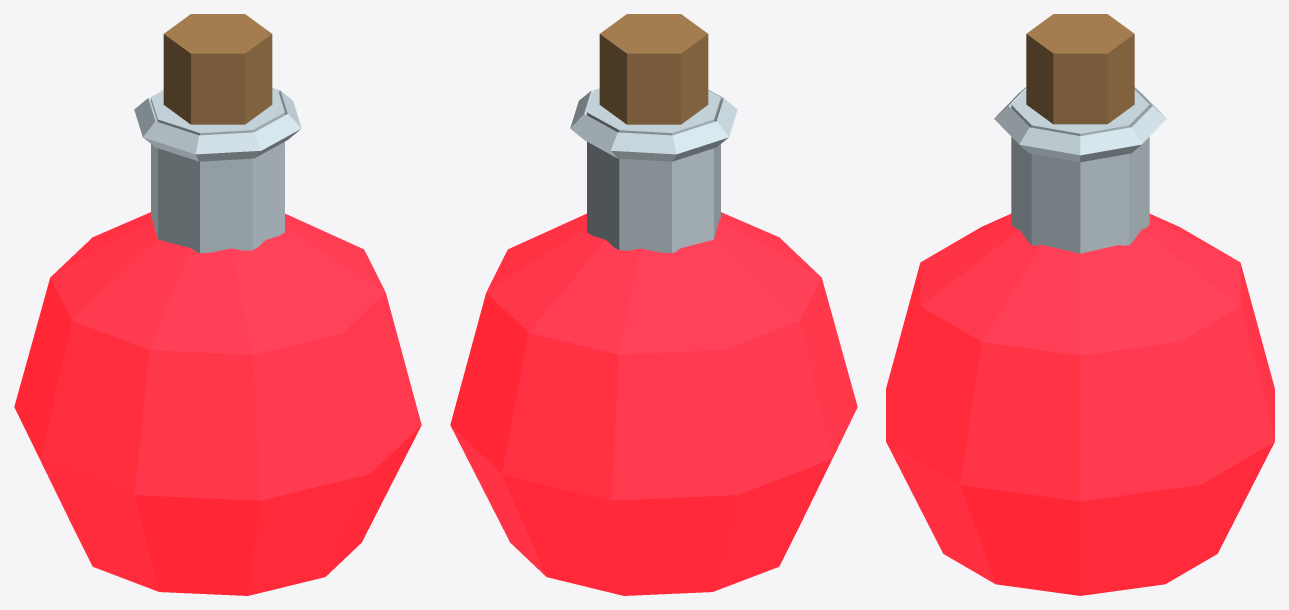
Rendered from potion_red.fbx.
3 views of the same model, side by side, from view 1: azimuth 30°, elevation 25°; view 2: azimuth 150°, elevation 25°; view 3: azimuth 270°, elevation 25° (orthographic).
Visible parts, largest first — view 1: potion_red; view 2: potion_red; view 3: potion_red.
Part boxes in pixels (x1,y1,x2,y2): potion_red: [14, 14, 421, 595]; potion_red: [450, 14, 857, 595]; potion_red: [886, 14, 1274, 595].
Bounding box in the file's own units: 0.17 × 0.235 × 0.1617.
